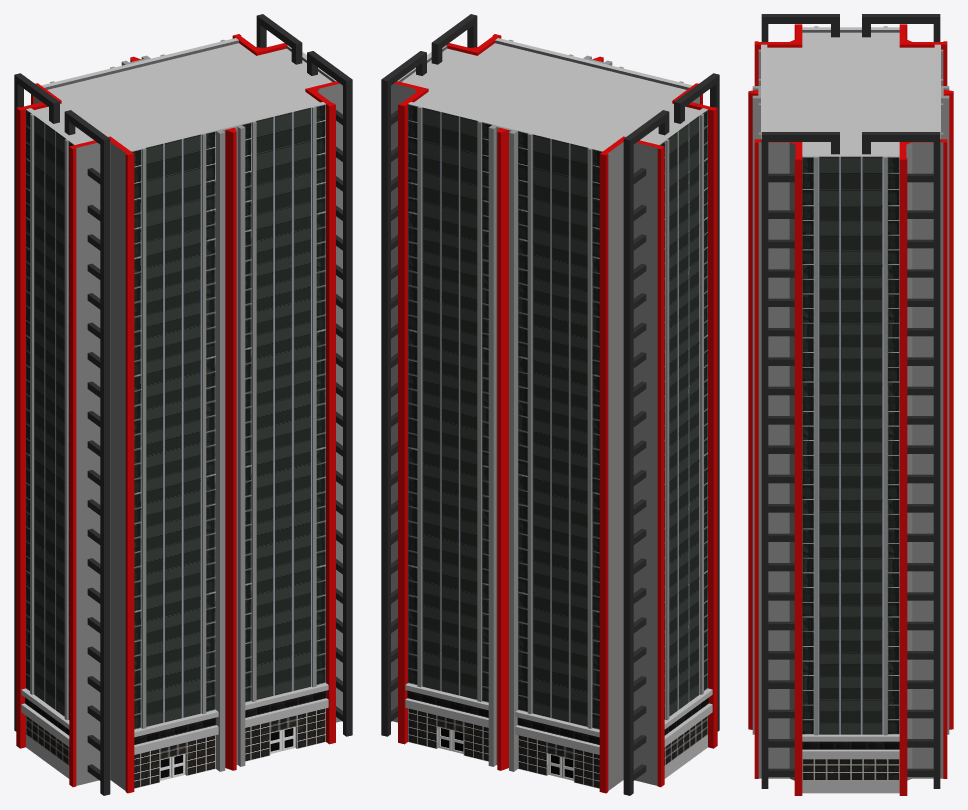
The picture shows the model from 3 angles, left to right: view 1: azimuth 30°, elevation 25°; view 2: azimuth 150°, elevation 25°; view 3: azimuth 270°, elevation 25°; orthographic projection.
Parts seen in each view (by area): view 1: Building; view 2: Building; view 3: Building.
Boxes of the visible parts, bbox=[...] form: Building: bbox=[14, 14, 352, 795]; Building: bbox=[381, 14, 719, 795]; Building: bbox=[748, 14, 953, 795].
Size of what is drawn, in the model's own units: 29.58 by 66.78 by 18.98.
